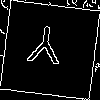Y: (25, 24, 64, 74)
